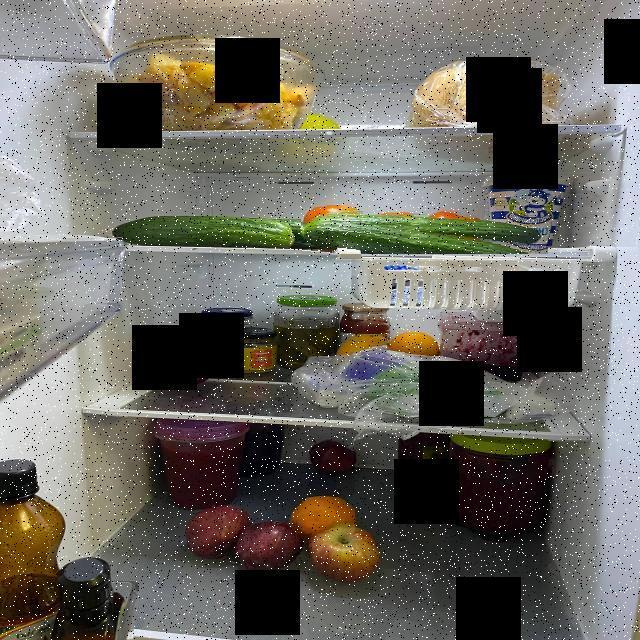apple: (235, 523, 312, 575), (307, 527, 381, 576), (187, 505, 253, 558), (308, 437, 354, 471)
cucumber: (298, 218, 548, 254), (107, 219, 301, 242)
orange: (293, 497, 355, 534), (406, 456, 456, 499), (391, 328, 448, 356), (336, 334, 388, 358)
tomato: (306, 205, 364, 218), (426, 207, 482, 218), (376, 212, 426, 218)
